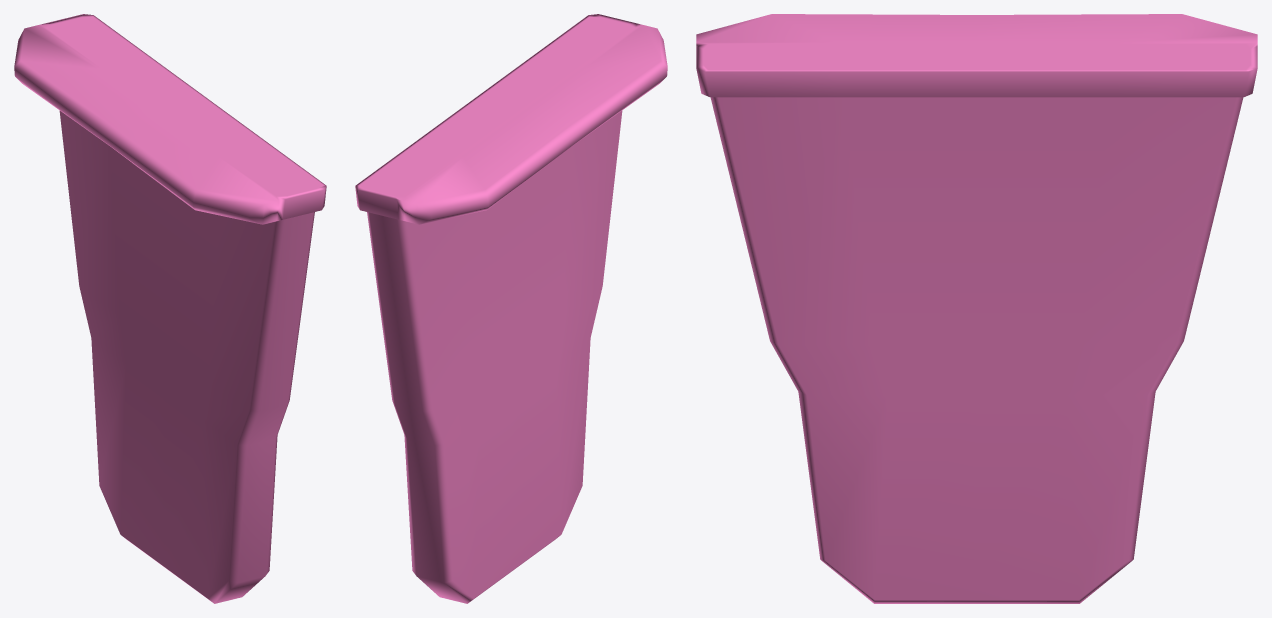
The model's file is SM_Hacking_Chip.fbx.
The picture shows the model from 3 angles, left to right: view 1: azimuth 30°, elevation 25°; view 2: azimuth 150°, elevation 25°; view 3: azimuth 270°, elevation 25°; orthographic projection. The views are drawn at different scales.
Visible parts, largest first — view 1: FuelRod_Chip; view 2: FuelRod_Chip; view 3: FuelRod_Chip.
Part boxes in pixels (x1,y1,x2,y2): FuelRod_Chip: [14, 14, 326, 603]; FuelRod_Chip: [355, 14, 667, 603]; FuelRod_Chip: [696, 14, 1257, 603].
Bounding box in the file's own units: 1.55 × 6.44 × 6.08.
